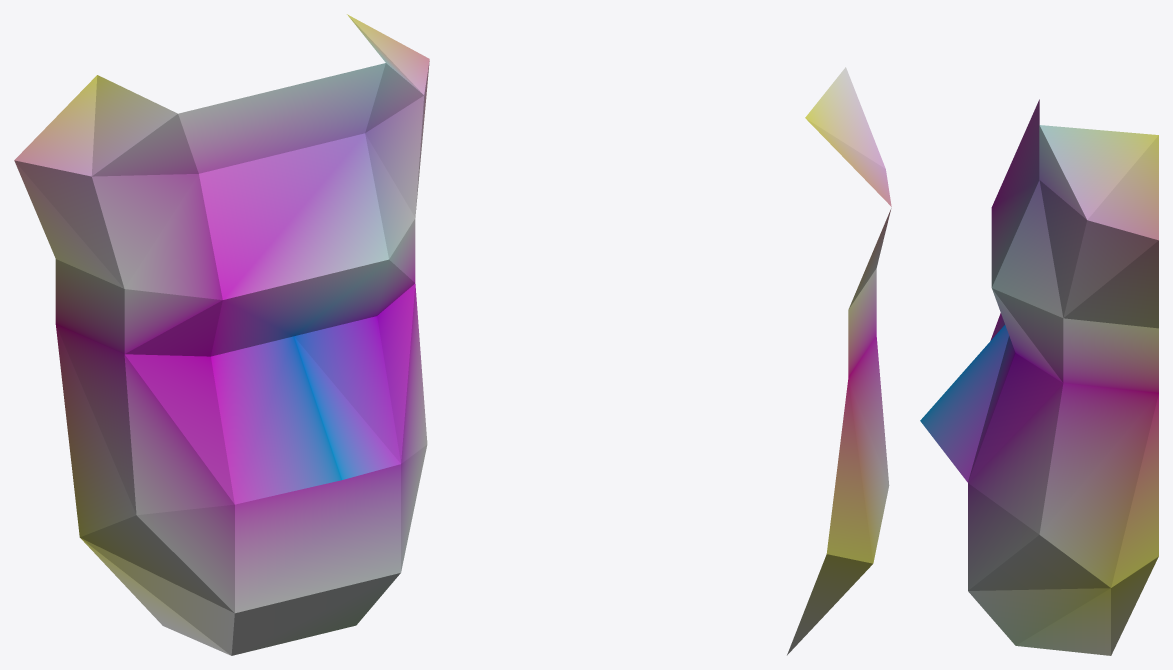
3 views of the same model, side by side, from view 1: azimuth 30°, elevation 25°; view 2: azimuth 150°, elevation 25°; view 3: azimuth 270°, elevation 25° (orthographic). The views are drawn at different scales.
Parts seen in each view (by area): view 1: model_13FE; view 2: model_13FE; view 3: model_13FE.
Boxes of the visible parts, x1=… form: model_13FE: x1=14, y1=14, x2=429, y2=655; model_13FE: x1=787, y1=67, x2=891, y2=655; model_13FE: x1=920, y1=99, x2=1158, y2=655.
Bounding box in the file's own units: 20 × 25 × 10.
